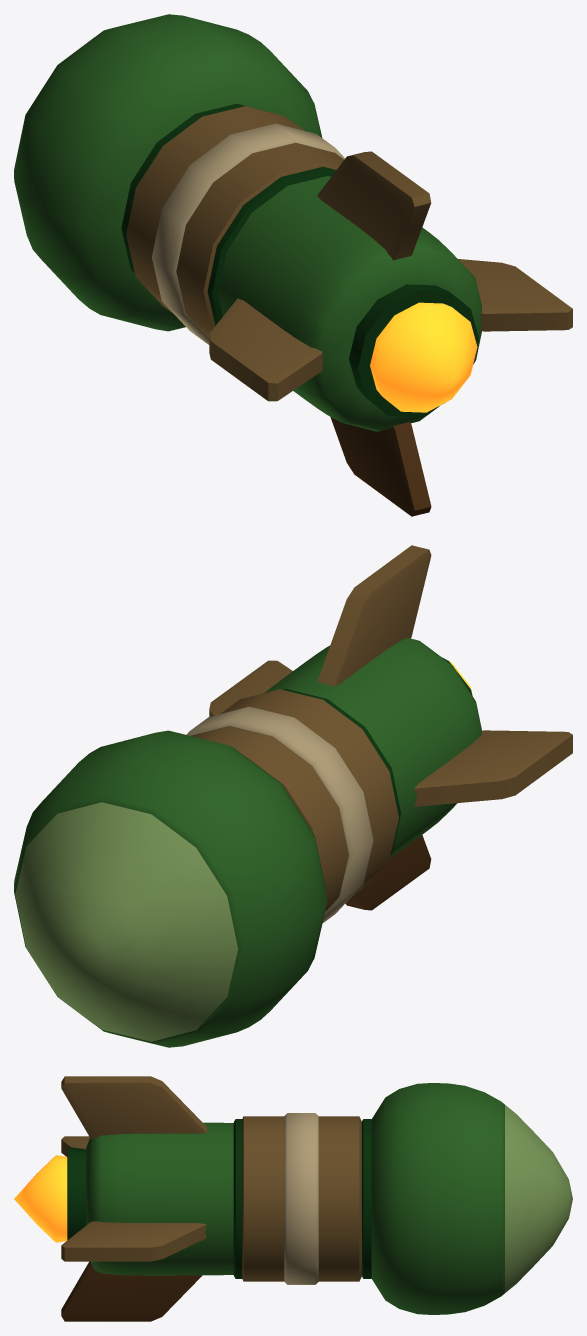
Rendered from shot_hmissile_green.glb.
The picture shows the model from 3 angles, top to bottom: view 1: azimuth 30°, elevation 25°; view 2: azimuth 150°, elevation 25°; view 3: azimuth 270°, elevation 25°; orthographic projection. The views are drawn at different scales.
Visible parts, largest first — view 1: hn_head0, hn_tail0, hn_band, hn_flame, hn_band_bright, hn_fin.001, hn_fin.002, hn_fin.003, hn_fin, hn_nozzle, hn_band_seam, hn_band_seam2; view 2: hn_head1, hn_head0, hn_tail0, hn_band, hn_fin.001, hn_fin.002, hn_band_bright, hn_fin.003, hn_fin, hn_band_seam; view 3: hn_head0, hn_tail0, hn_band, hn_head1, hn_fin.001, hn_band_bright, hn_fin.003, hn_fin, hn_flame, hn_nozzle, hn_band_seam2, hn_band_seam (+1 smaller).
Part boxes in pixels (<box>): hn_head0: <box>14,14,322,331</box>; hn_tail0: <box>218,176,482,431</box>; hn_band: <box>126,106,343,338</box>; hn_flame: <box>370,302,477,412</box>; hn_band_bright: <box>151,123,344,344</box>; hn_fin.001: <box>317,151,431,260</box>; hn_fin.002: <box>209,298,322,401</box>; hn_fin.003: <box>330,417,431,516</box>; hn_fin: <box>458,259,572,331</box>; hn_nozzle: <box>349,284,478,416</box>; hn_band_seam: <box>207,166,336,325</box>; hn_band_seam2: <box>121,103,269,272</box>; hn_head1: <box>15,802,238,1041</box>; hn_head0: <box>14,730,327,1047</box>; hn_tail0: <box>264,637,481,857</box>; hn_band: <box>191,689,398,911</box>; hn_fin.001: <box>317,545,431,686</box>; hn_fin.002: <box>414,730,572,806</box>; hn_band_bright: <box>186,706,373,922</box>; hn_fin.003: <box>345,835,431,910</box>; hn_fin: <box>209,660,292,716</box>; hn_band_seam: <box>282,688,401,854</box>; hn_head0: <box>371,1083,504,1314</box>; hn_tail0: <box>86,1122,233,1275</box>; hn_band: <box>242,1116,361,1281</box>; hn_head1: <box>505,1105,572,1292</box>; hn_fin.001: <box>61,1076,206,1139</box>; hn_band_bright: <box>284,1113,318,1284</box>; hn_fin.003: <box>61,1261,202,1321</box>; hn_fin: <box>61,1221,206,1261</box>; hn_flame: <box>14,1155,67,1242</box>; hn_nozzle: <box>67,1147,85,1239</box>; hn_band_seam2: <box>362,1119,371,1278</box>; hn_band_seam: <box>233,1119,242,1278</box>.
Size of the model in its own units: 6.6 by 6.6 by 14.
